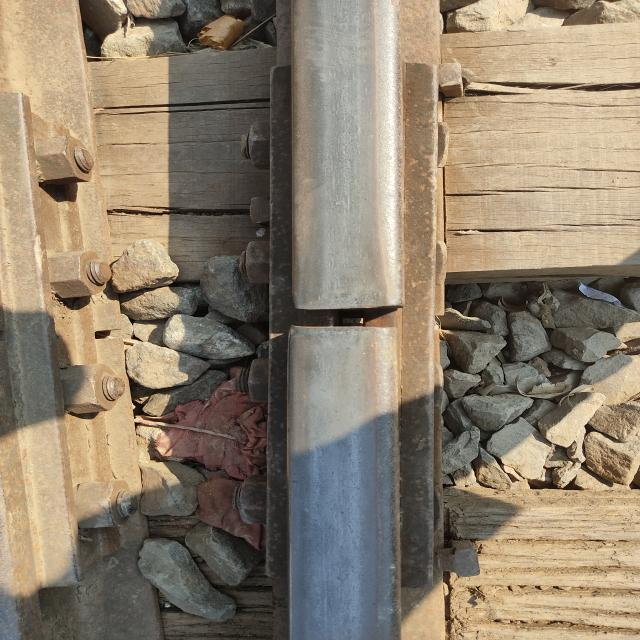defective: (198, 207, 640, 436)
